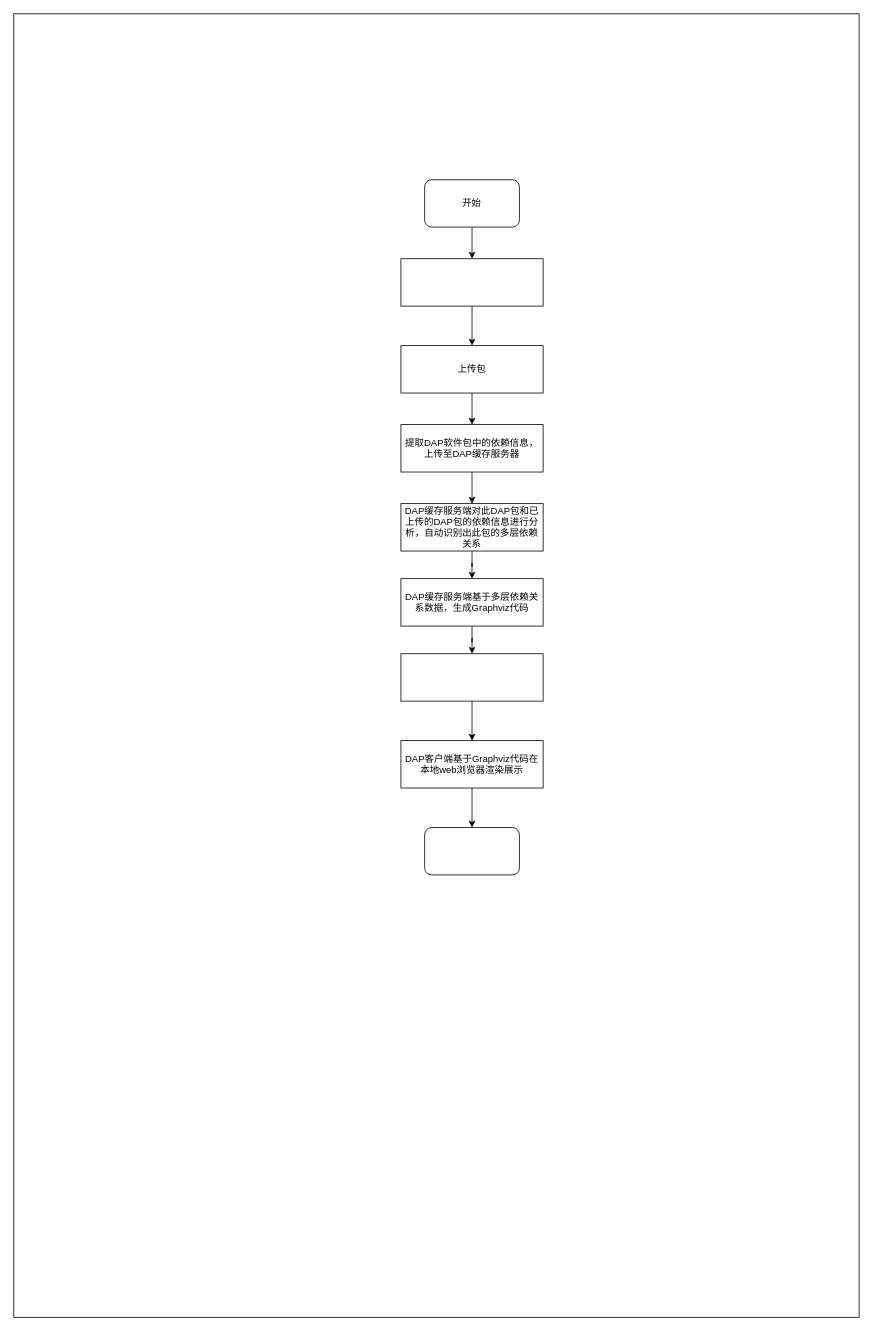
This 873x1331 diagram has some shape labels left out. The shapes that lost their labels are listed below. From the top down, each one's centre as x and y in pixels, then its label:
At pixel 471 282: "制作包".
At pixel 471 677: "DAP客户端从DAP缓存服务端下载Graphviz代码".
At pixel 471 851: "结束".
